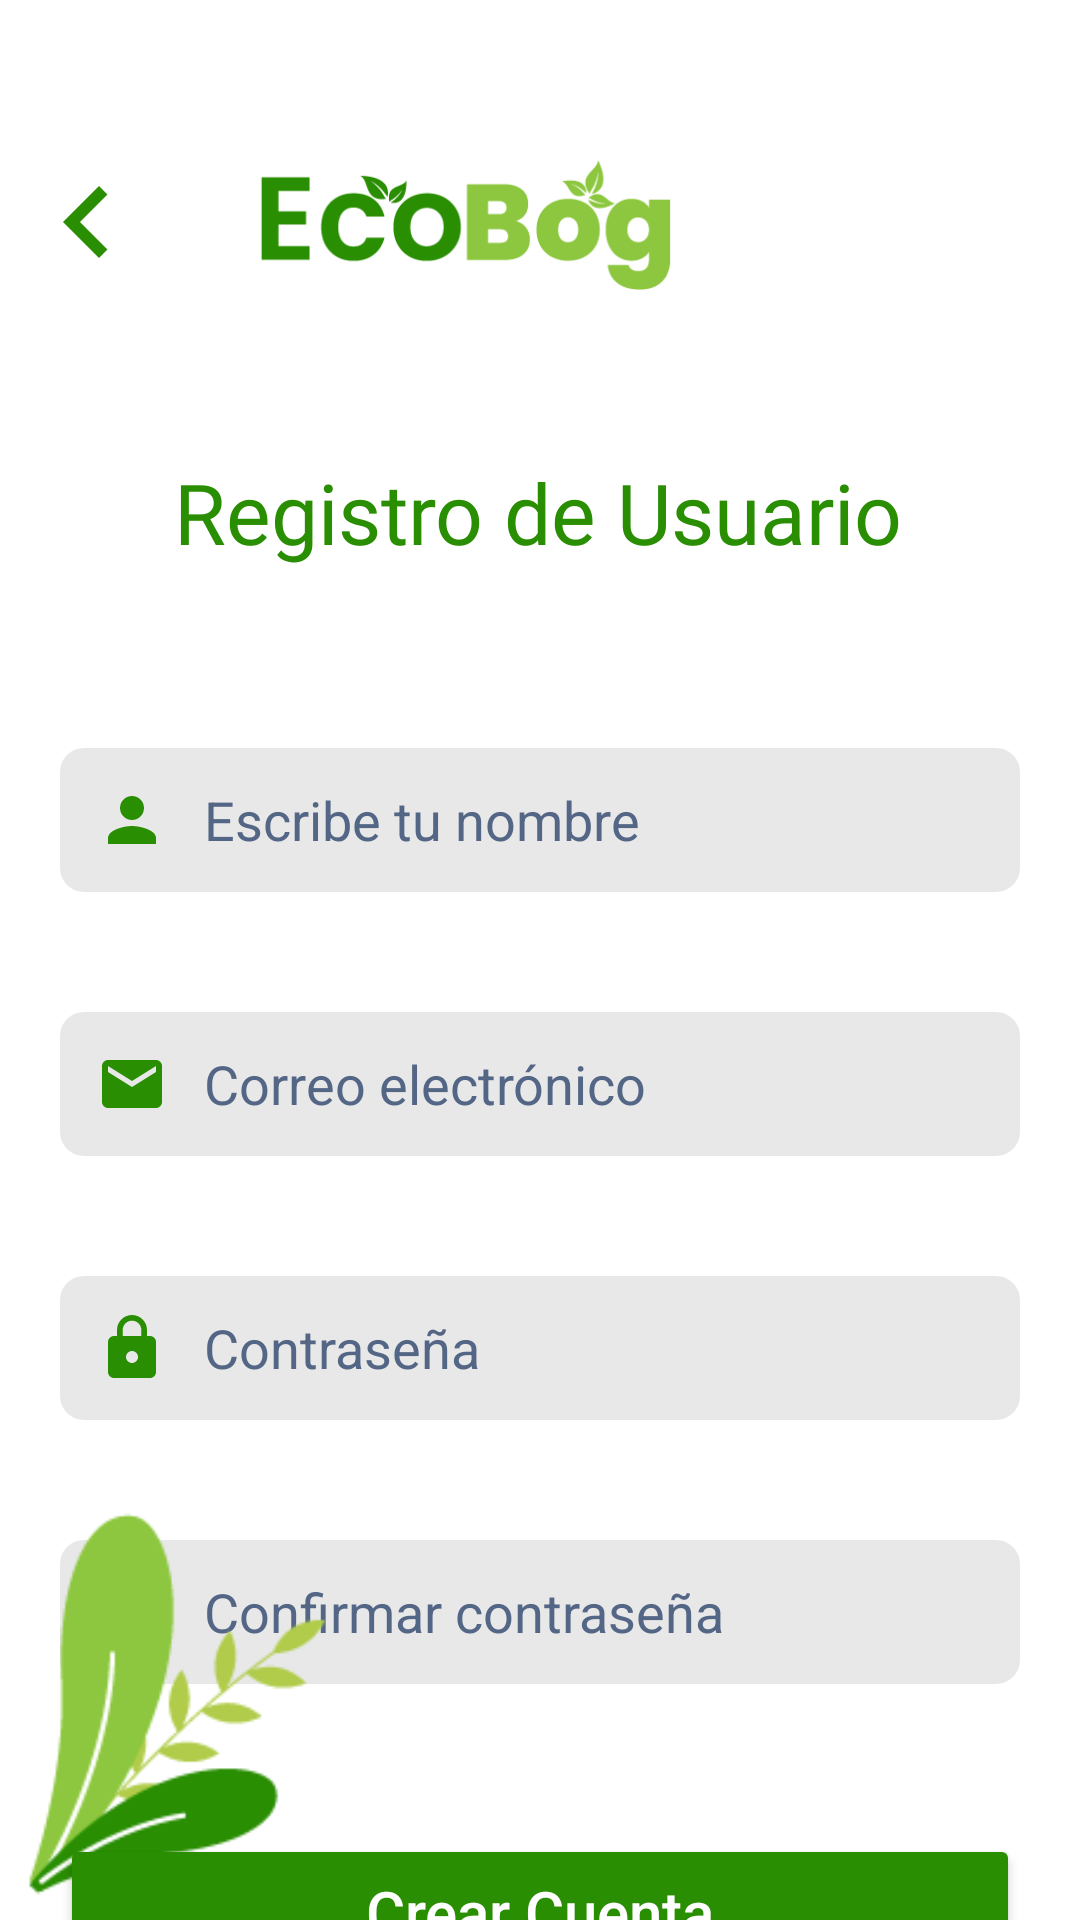

Screen size 1080x1920. Icon name, then its box in pixels as (x1, y1, x2, y2):
Volver a la pantalla anterior: (63, 186, 108, 258)
